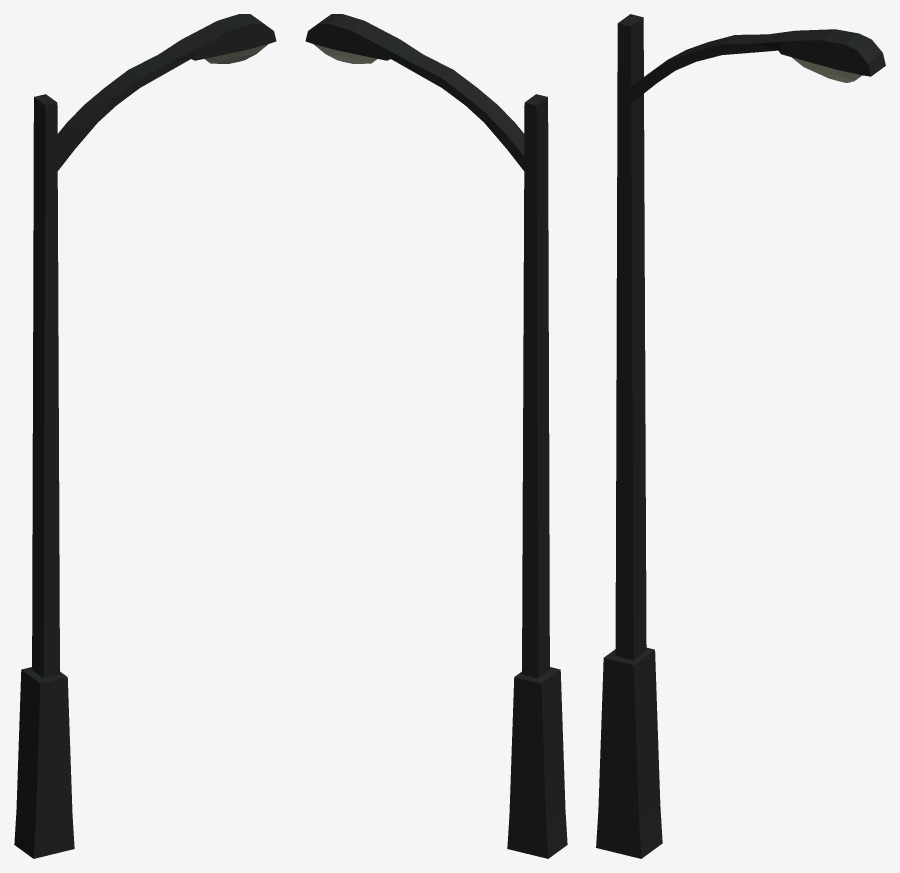
File: StreetLight.FBX
The picture shows the model from 3 angles, left to right: view 1: azimuth 30°, elevation 25°; view 2: azimuth 150°, elevation 25°; view 3: azimuth 330°, elevation 25°; orthographic projection. The views are drawn at different scales.
Visible parts, largest first — view 1: Cube, Object008; view 2: Cube, Object008; view 3: Cube, Object008.
Part boxes in pixels (<box>): Cube: <box>14,14,276,858</box>; Object008: <box>205,44,268,63</box>; Cube: <box>305,14,567,858</box>; Object008: <box>313,44,376,63</box>; Cube: <box>596,14,885,858</box>; Object008: <box>792,57,861,82</box>.
Bounding box in the file's own units: 126 × 380 × 17.07.
